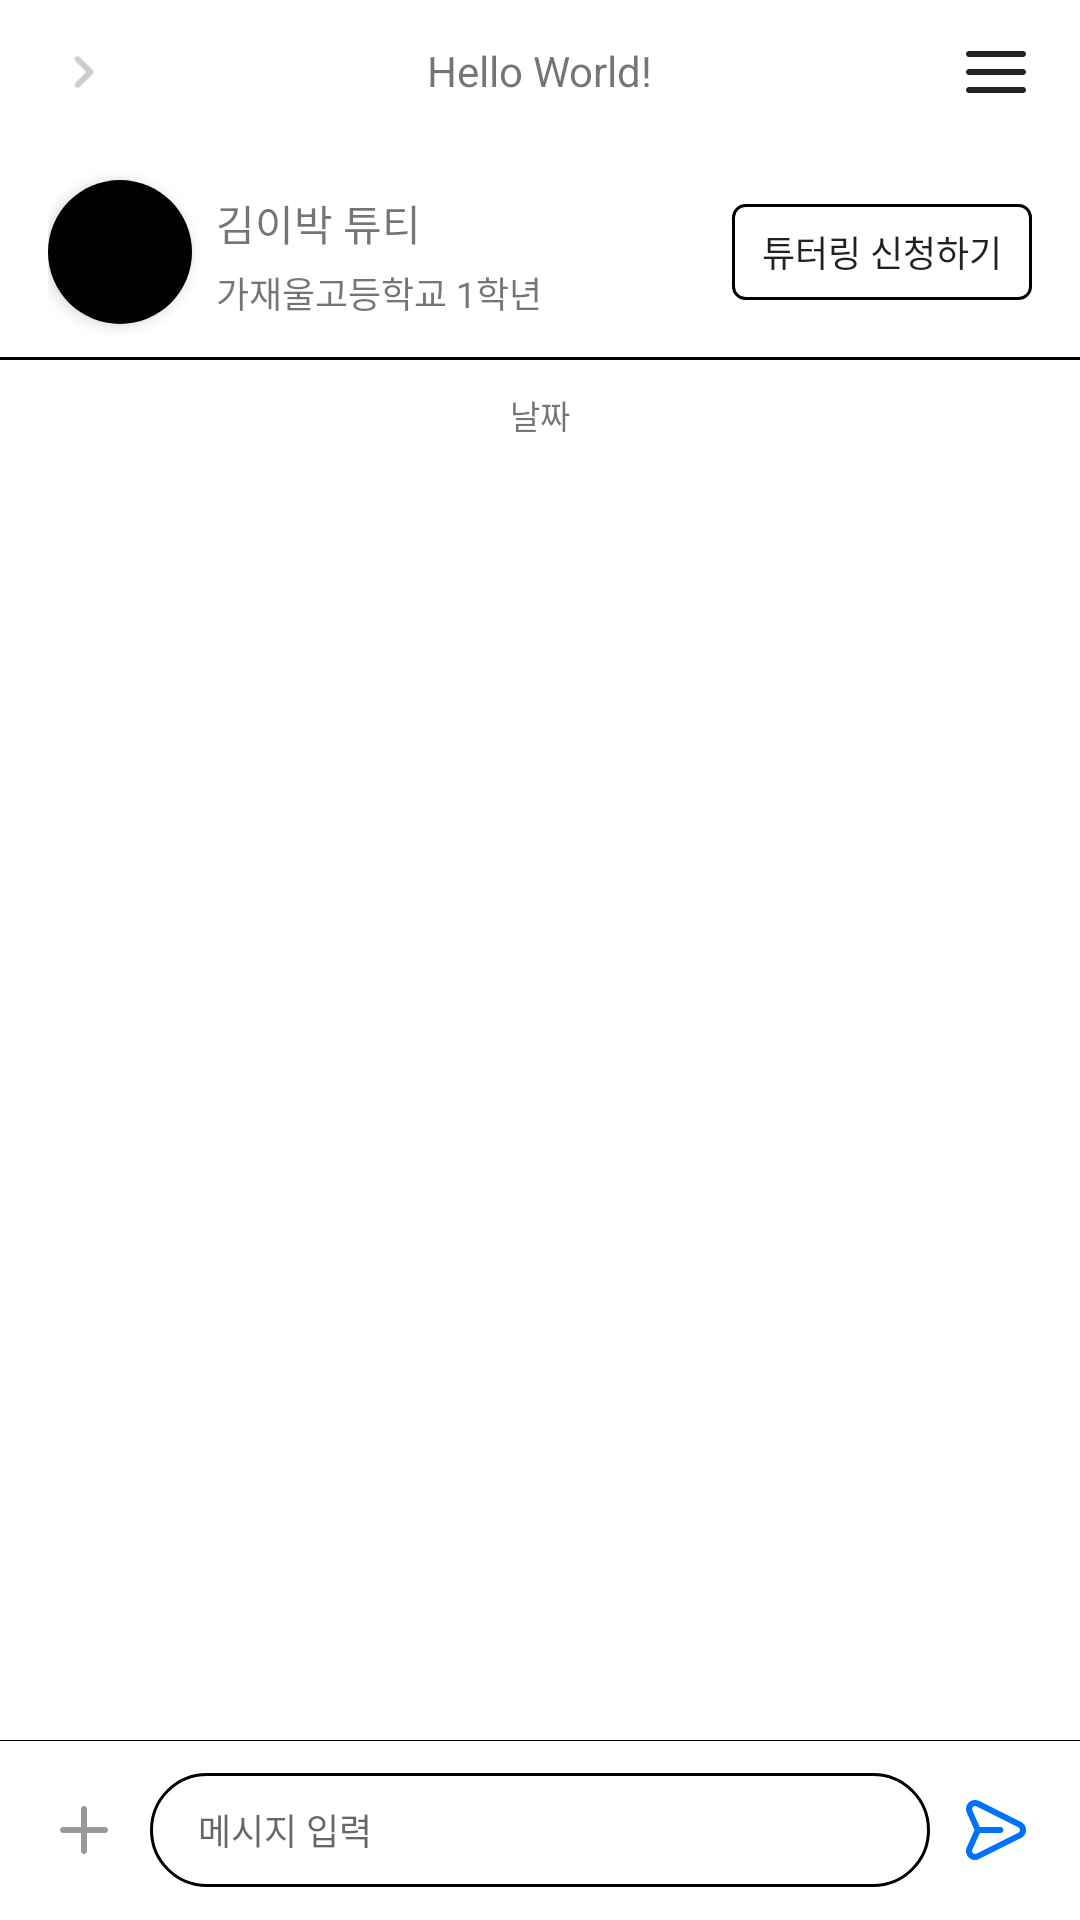

Screen size 1080*1920. Icon name, then its center in pixels as point (x, y):
menu: point (996, 72)
paper plane: point (996, 1830)
plus: point (84, 1830)
right arrow: point (84, 72)
